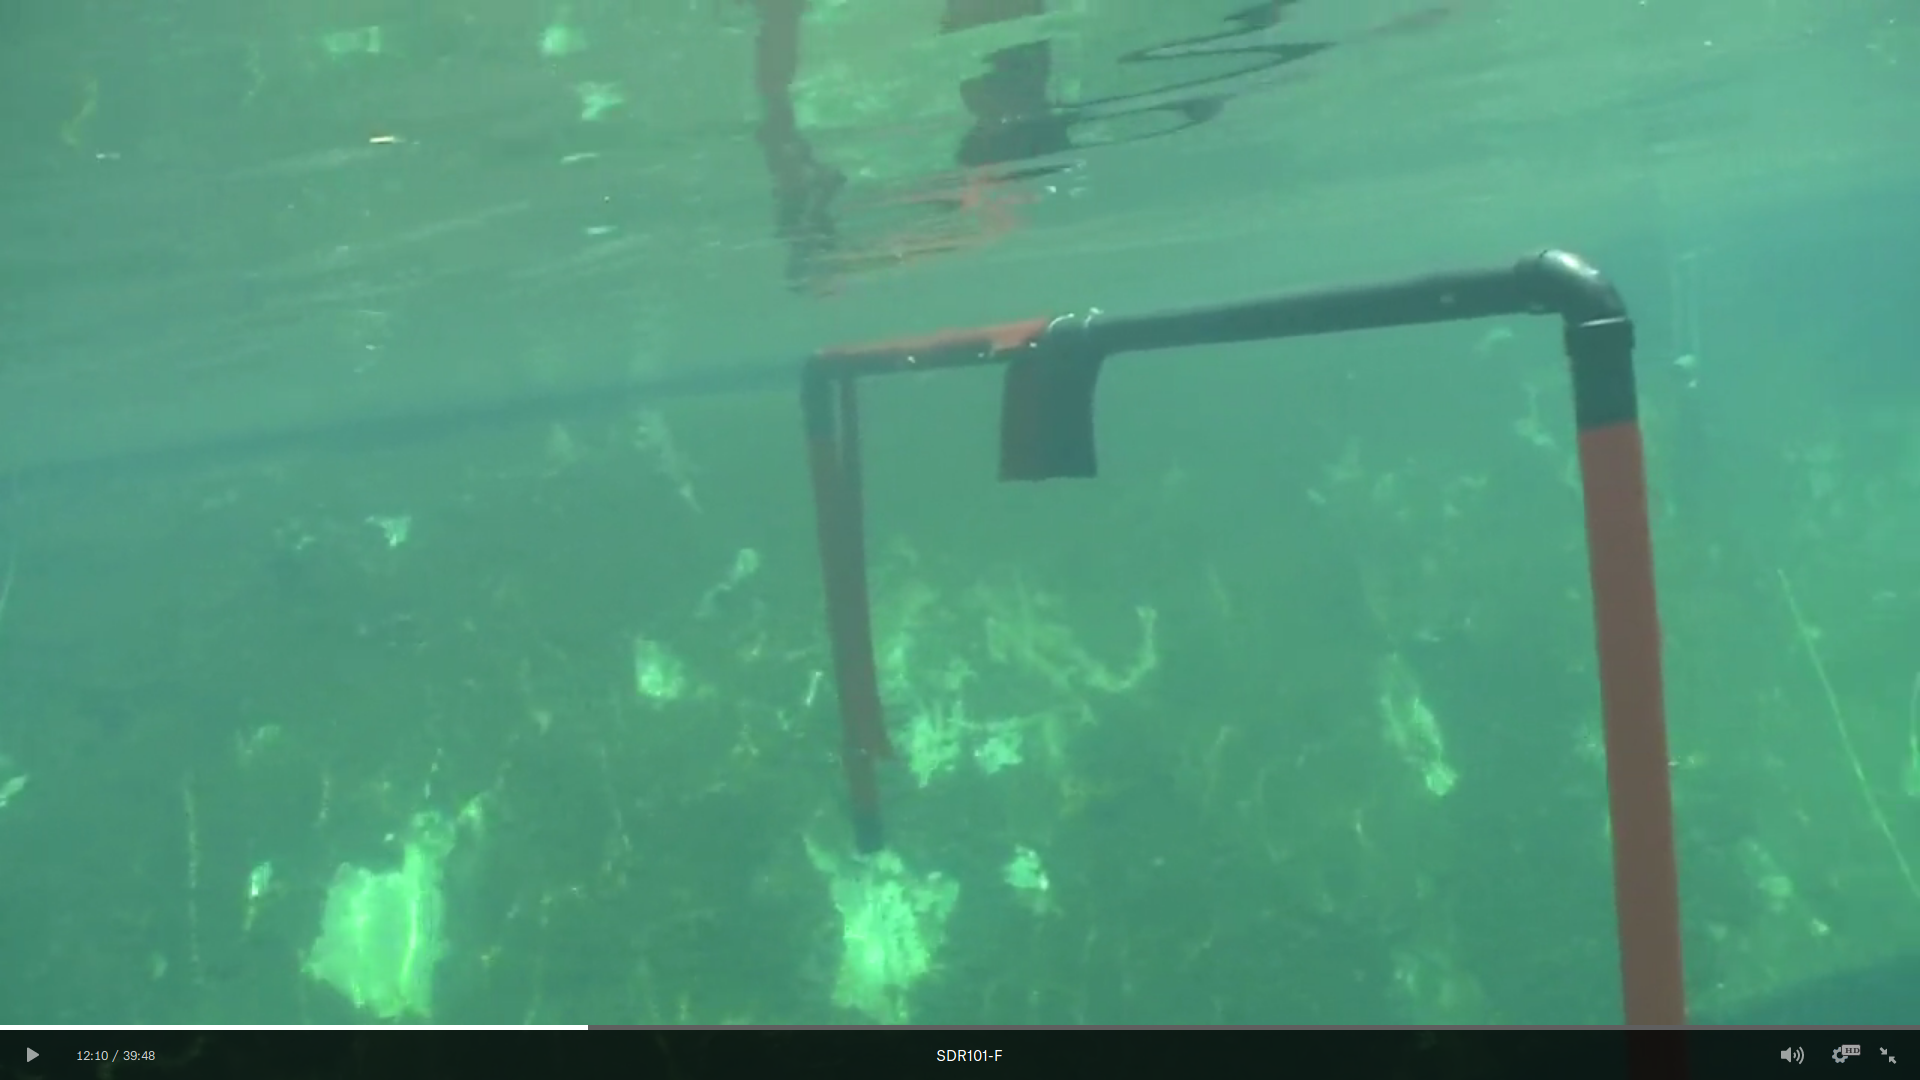gate: (770, 237, 1714, 1015)
